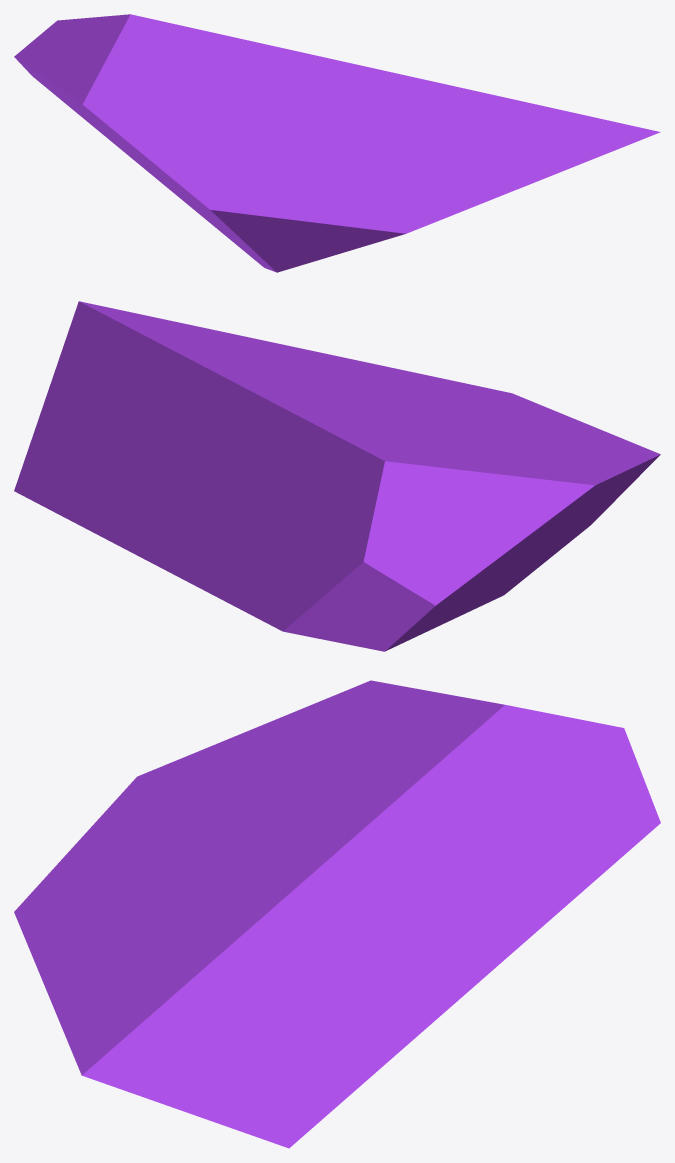
The model's file is Window_138_5_chunks.fbx.
The picture shows the model from 3 angles, top to bottom: view 1: azimuth 30°, elevation 25°; view 2: azimuth 150°, elevation 25°; view 3: azimuth 270°, elevation 25°; orthographic projection. The views are drawn at different scales.
Visible parts, largest first — view 1: Window_138_5_0; view 2: Window_138_5_0; view 3: Window_138_5_0.
Part boxes in pixels (x1=…): Window_138_5_0: x1=14, y1=14, x2=660, y2=272; Window_138_5_0: x1=14, y1=301, x2=660, y2=651; Window_138_5_0: x1=14, y1=680, x2=660, y2=1148.
Size of the model in its own units: 428 by 156 by 378.
